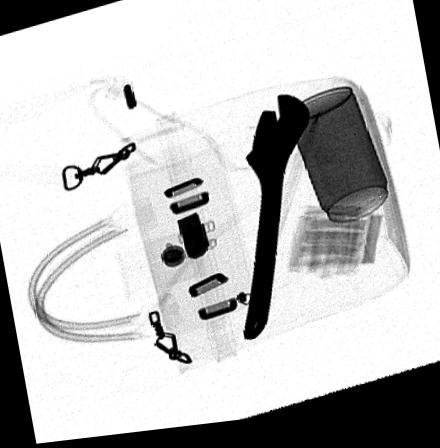Wrench: (242, 100, 310, 345)
